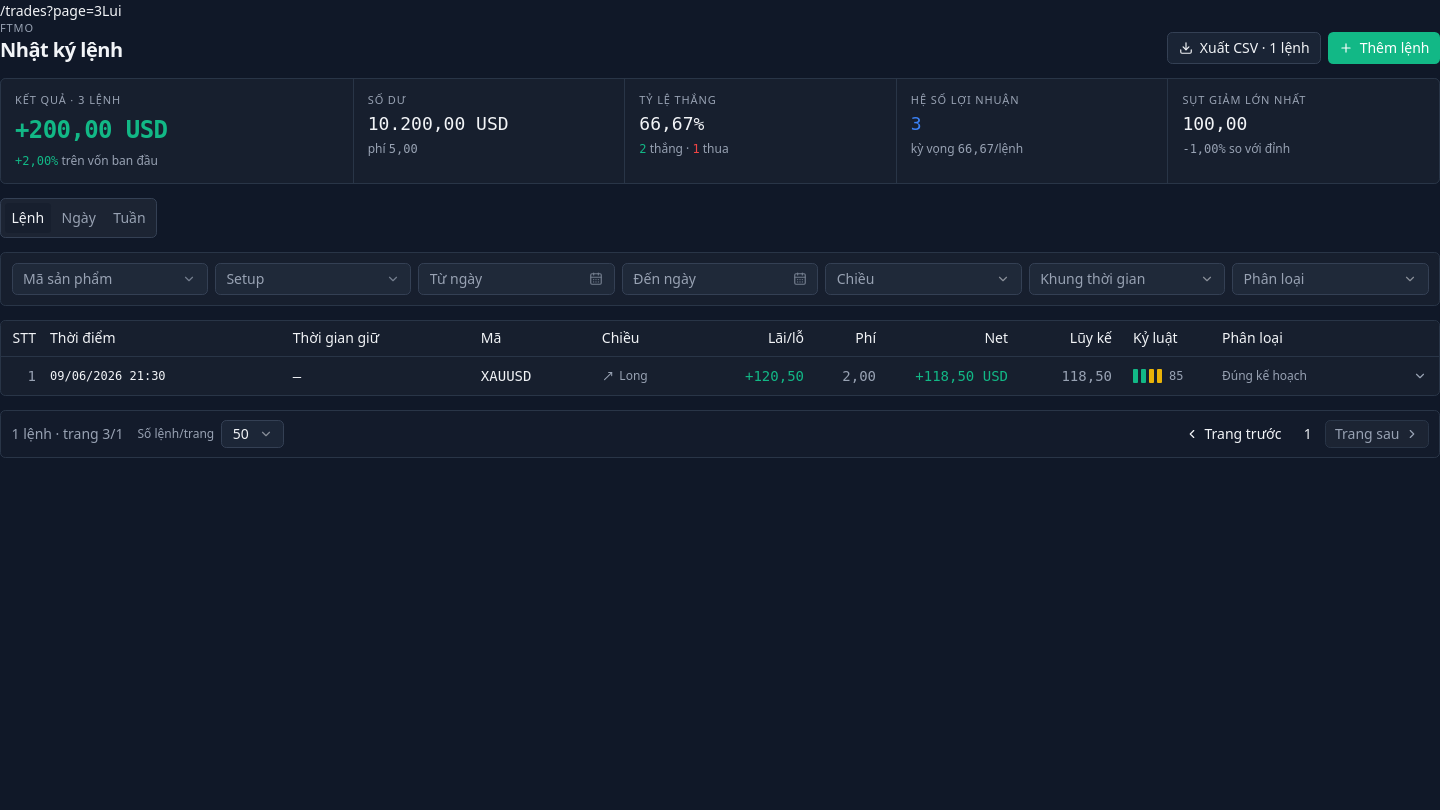
Test case: đổi bộ lọc thì về trang 1
Expected: the row "XAUUSD" is shown, [1,356,1439,395]
Click the dropdown labelled "Mã sản phẩm".
click(110, 279)  # box [12,263,208,295]
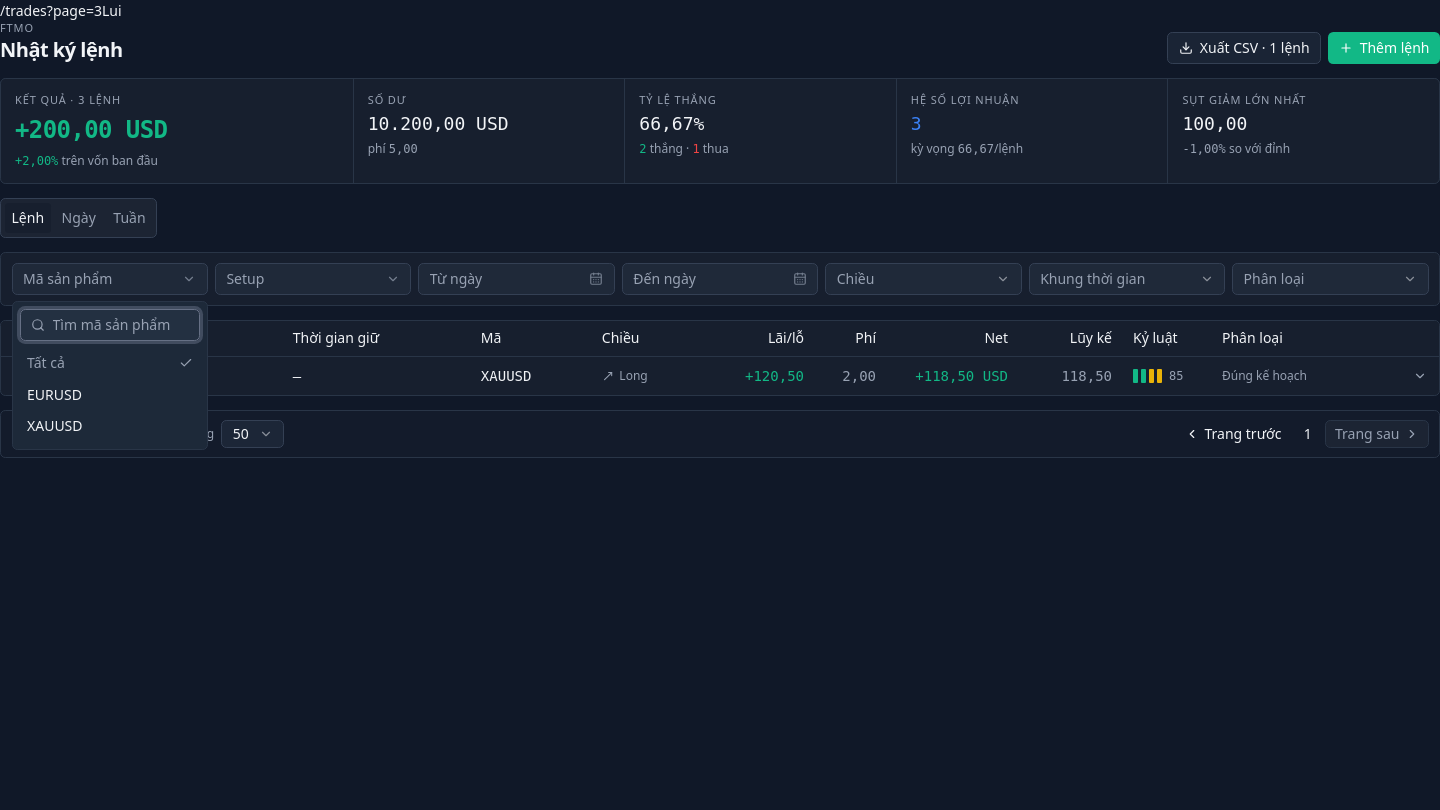
Click the option "EURUSD".
click(110, 395)  # box [20,379,200,410]
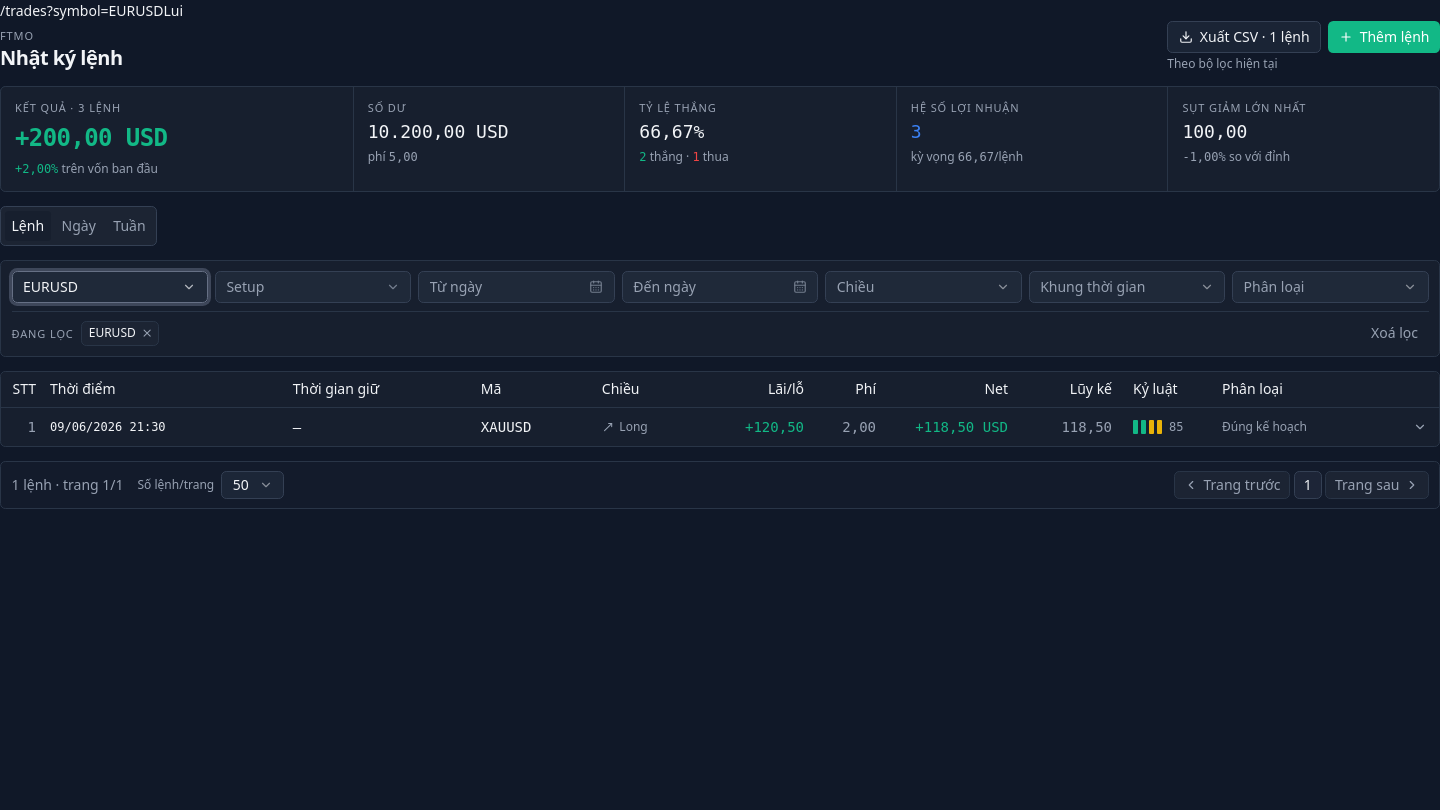
Result: the text with test id "url" shows "symbol=EURUSD" at [0,1,163,20]
Result: the text with test id "url" no longer shows "page=" at [0,1,163,20]
